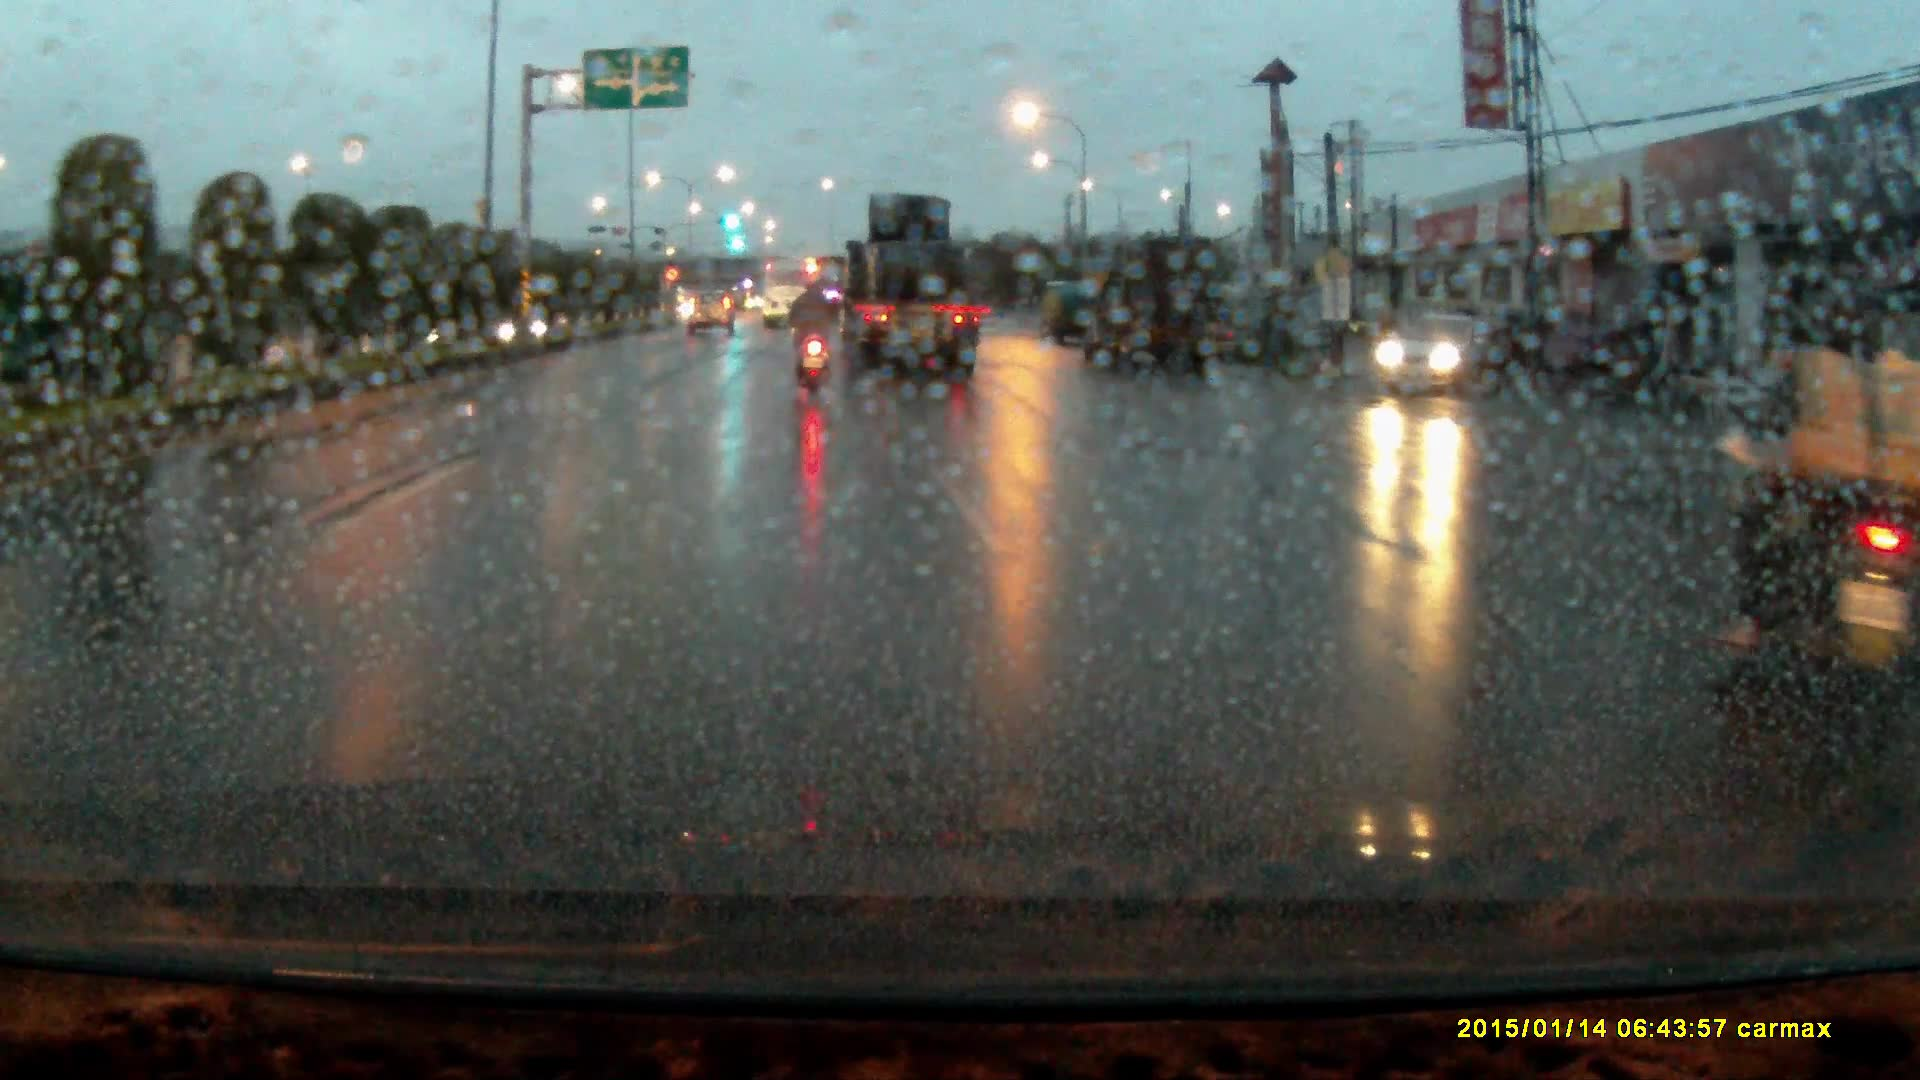rider: (1713, 249, 1920, 690), (790, 272, 847, 399)
vehicle: (839, 195, 977, 377), (1087, 233, 1233, 377), (1379, 316, 1514, 404), (764, 263, 825, 326), (1044, 282, 1094, 345), (687, 292, 737, 340)
